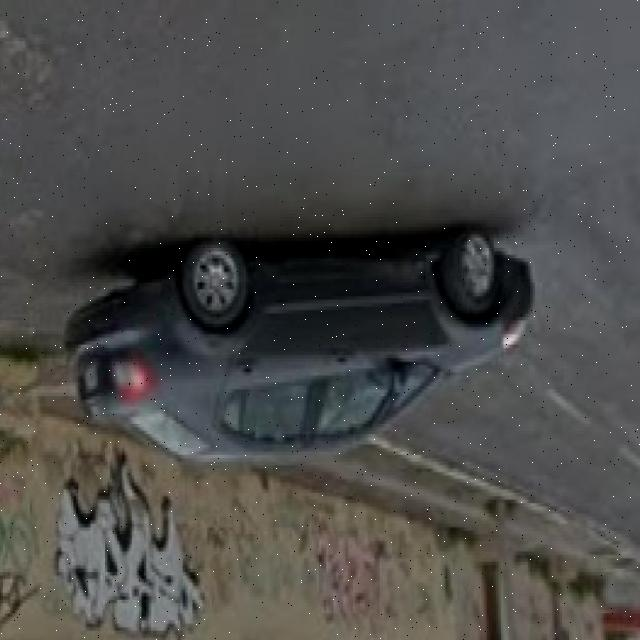car: (68, 224, 541, 481)
